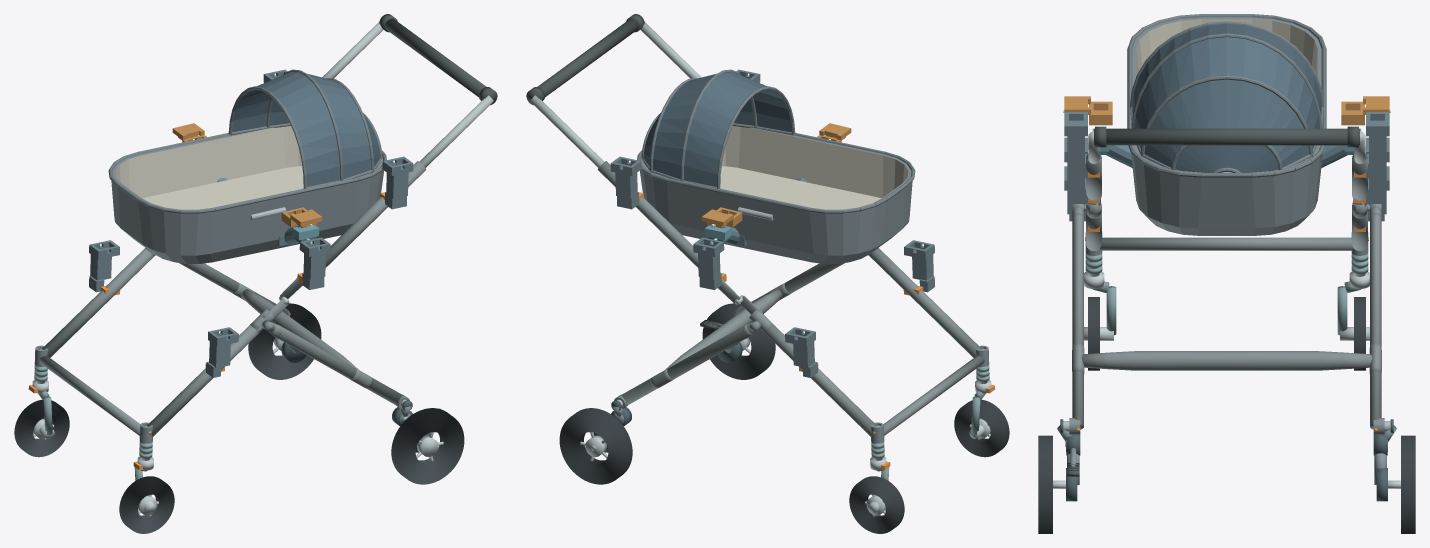
The model's file is S06_w650_state1_wheel_S.glb.
3 views of the same model, side by side, from view 1: azimuth 30°, elevation 25°; view 2: azimuth 150°, elevation 25°; view 3: azimuth 270°, elevation 25° (orthographic). The views are drawn at different scales.
Visible parts, largest first — view 1: S06_Cabin, RL_tire.008, RR_tire.008, FL_tire.008, FR_tire.008, main_lower_1.009, round_handle.008, V46_rear_leg_-1.009, main_lower_-1.009, main_upper_-1.009, front_fixed_round_tube.008, V46_rearbar.009 (+9 smaller); view 2: S06_Cabin, RR_tire.008, FR_tire.008, RL_tire.008, FL_tire.008, main_lower_-1.009, round_handle.008, V46_rear_leg_1.009, main_lower_1.009, main_upper_1.009, front_fixed_round_tube.008, V46_rearbar.009 (+9 smaller); view 3: S06_Cabin, V46_rearbar.009, round_handle.008, front_fixed_round_tube.008, V46_rear_leg_1.009, V46_rear_leg_-1.009, RL_tire.008, RR_tire.008, Universal_Cabin_Receiver_H_1, Universal_Cabin_Receiver_H_-1, D02_WideAdapter_M_-1, D02_WideAdapter_M_1 (+11 smaller).
Boxes of the visible parts, x1,y1,x2,y2 form: S06_Cabin: (108, 69, 386, 263); RL_tire.008: (391, 408, 464, 484); RR_tire.008: (248, 303, 321, 379); FL_tire.008: (119, 476, 174, 533); FR_tire.008: (14, 399, 69, 457); main_lower_1.009: (42, 248, 154, 357); round_handle.008: (385, 18, 496, 103); V46_rear_leg_-1.009: (271, 324, 402, 405); main_lower_-1.009: (147, 325, 262, 436); main_upper_-1.009: (325, 161, 426, 267); front_fixed_round_tube.008: (39, 355, 140, 435); V46_rearbar.009: (241, 289, 358, 369); S06_Cabin: (637, 69, 915, 263); RR_tire.008: (559, 408, 632, 484); FR_tire.008: (849, 476, 904, 533); RL_tire.008: (702, 303, 775, 379); FL_tire.008: (954, 399, 1009, 457); main_lower_-1.009: (869, 248, 981, 357); round_handle.008: (527, 18, 638, 103); V46_rear_leg_1.009: (621, 324, 752, 405); main_lower_1.009: (761, 325, 876, 436); main_upper_1.009: (597, 161, 698, 267); front_fixed_round_tube.008: (883, 355, 984, 435); V46_rearbar.009: (665, 289, 782, 369); S06_Cabin: (1127, 14, 1326, 235); V46_rearbar.009: (1081, 351, 1372, 370); round_handle.008: (1094, 128, 1359, 145); front_fixed_round_tube.008: (1100, 237, 1353, 250); V46_rear_leg_1.009: (1370, 213, 1381, 429); V46_rear_leg_-1.009: (1072, 213, 1083, 429); RL_tire.008: (1038, 435, 1052, 533); RR_tire.008: (1401, 435, 1415, 533); Universal_Cabin_Receiver_H_1: (1366, 112, 1389, 178); Universal_Cabin_Receiver_H_-1: (1064, 112, 1087, 178); D02_WideAdapter_M_-1: (1063, 96, 1112, 125); D02_WideAdapter_M_1: (1341, 96, 1390, 125).
Bounding box in the file's own units: 1.12 × 1.04 × 0.766.
